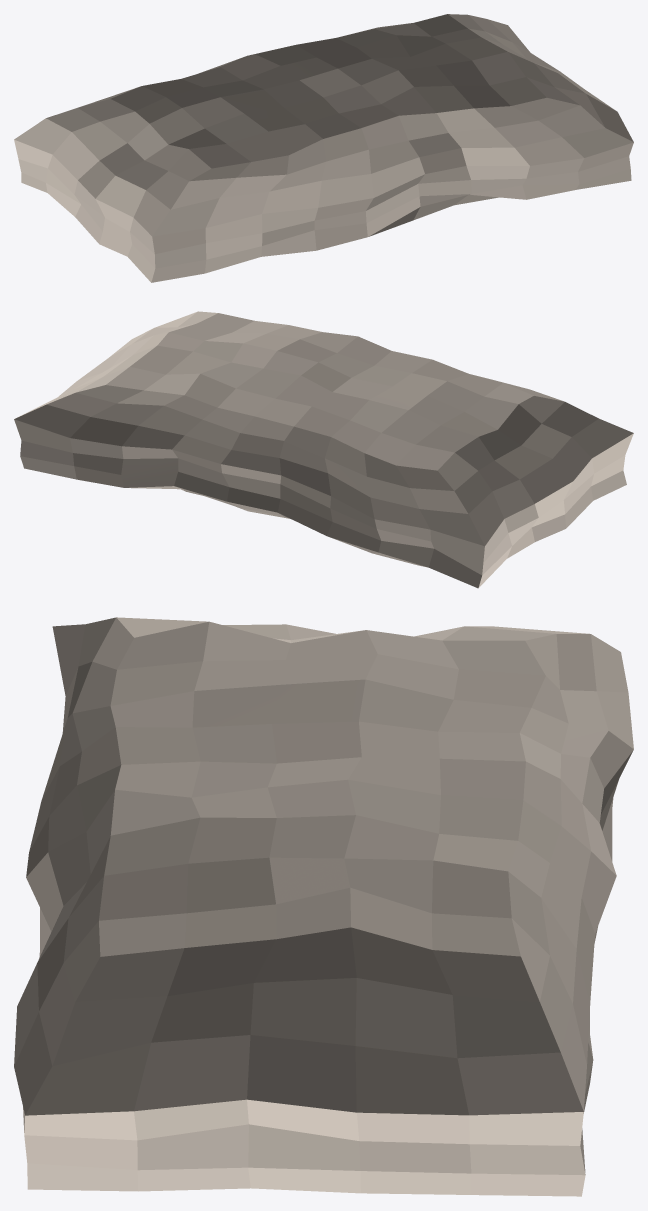
Rendered from Blancket.fbx.
3 views of the same model, one above another, from view 1: azimuth 30°, elevation 25°; view 2: azimuth 150°, elevation 25°; view 3: azimuth 270°, elevation 25° (orthographic). The views are drawn at different scales.
Visible parts, largest first — view 1: Blancket; view 2: Blancket; view 3: Blancket.
Part boxes in pixels (x1,y1,x2,y2): Blancket: (14,14,633,282); Blancket: (14,311,633,588); Blancket: (14,617,633,1196).
Bounding box in the file's own units: 0.5257 × 0.1965 × 0.9464.
